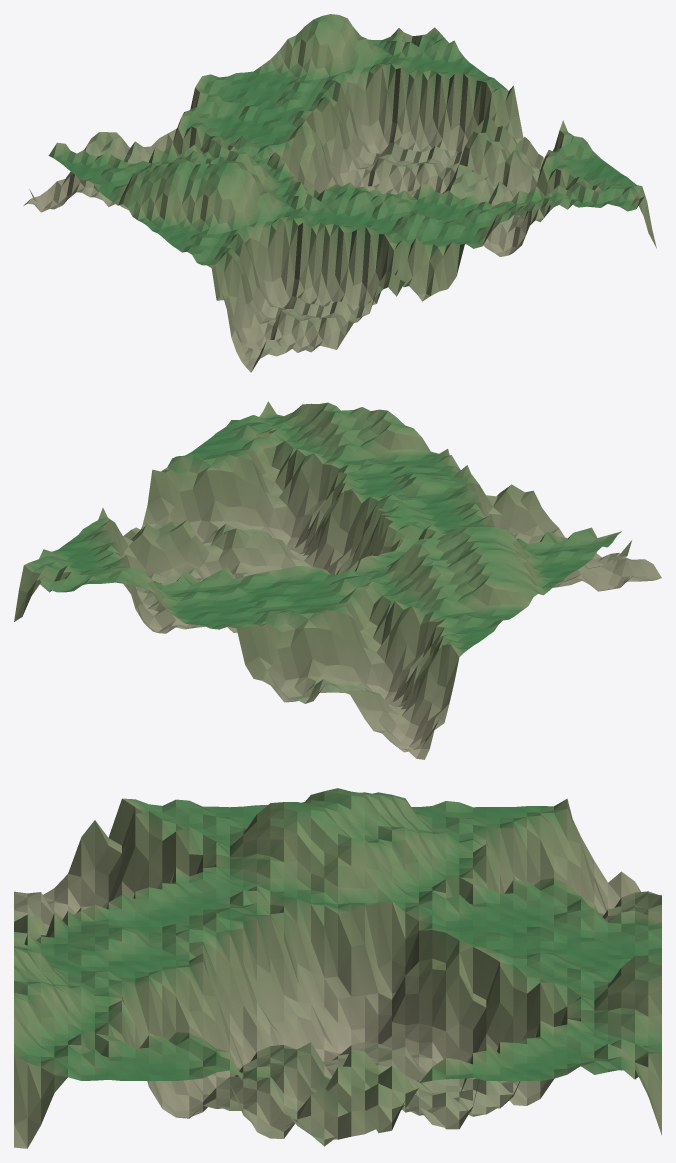
Rendered from tropical_lod1.glb.
3 views of the same model, one above another, from view 1: azimuth 30°, elevation 25°; view 2: azimuth 150°, elevation 25°; view 3: azimuth 270°, elevation 25° (orthographic). The views are drawn at different scales.
Parts seen in each view (by area): view 1: world; view 2: world; view 3: world.
Part boxes in pixels (x1=…): world: x1=23, y1=14, x2=656, y2=372; world: x1=14, y1=401, x2=661, y2=759; world: x1=14, y1=788, x2=661, y2=1148.
Size of the model in its own units: 2 by 0.5827 by 2.
